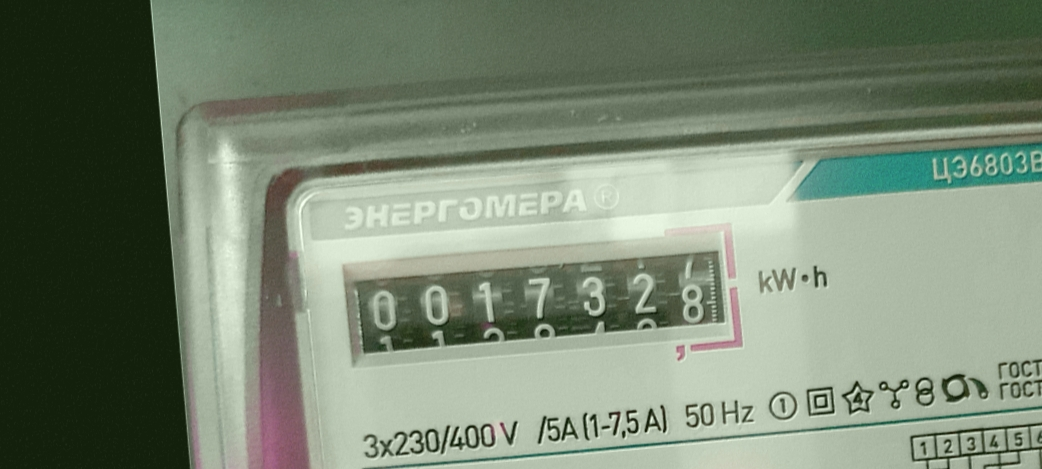0: (366, 288, 402, 335), (420, 281, 452, 329)
1: (474, 278, 499, 326)
2: (627, 270, 660, 318)
3: (578, 274, 608, 319)
7: (524, 275, 555, 323)
8: (677, 282, 706, 326)
screen: (332, 225, 752, 387)
